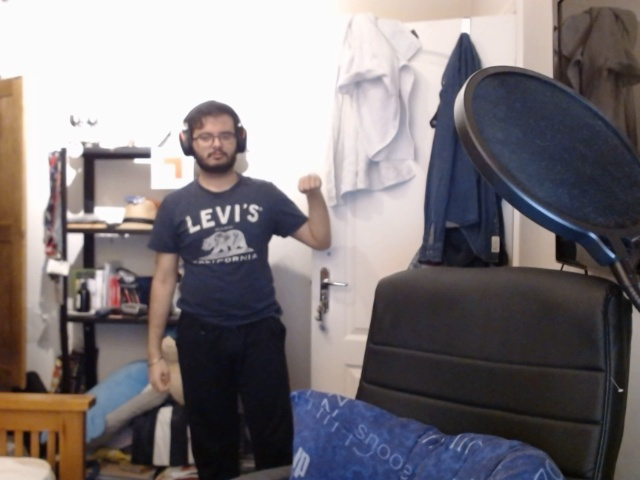Yes: (293, 170, 330, 207)
